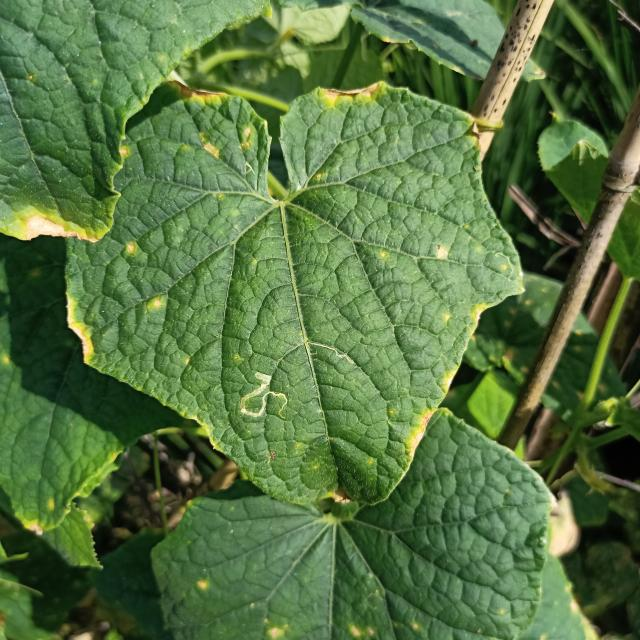disease_cucumber: (199, 123, 255, 161), (439, 300, 491, 332), (432, 245, 451, 263), (124, 239, 138, 257), (149, 296, 164, 312)
